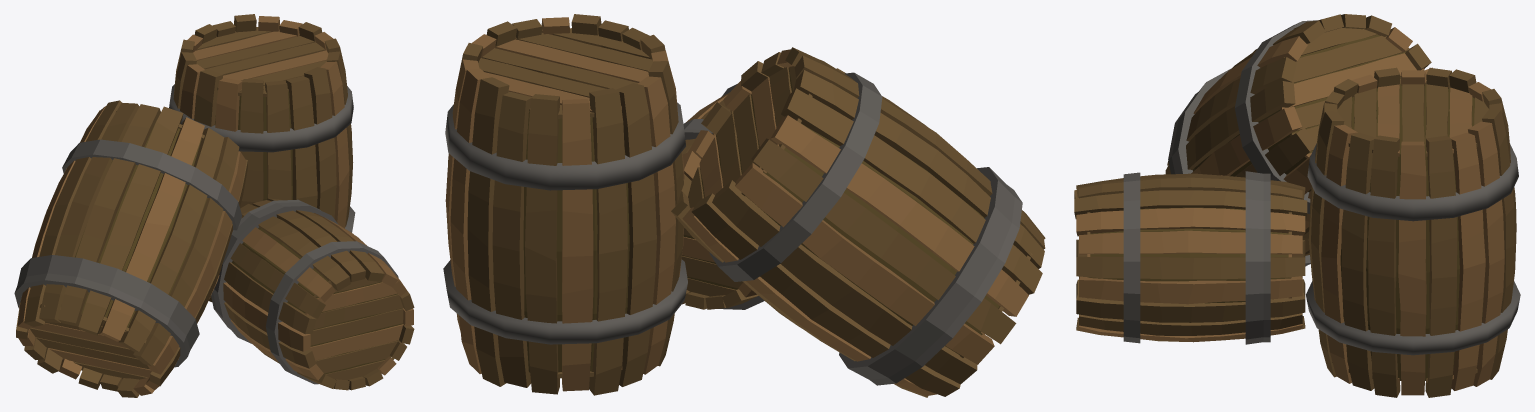
File: crates.glb
The picture shows the model from 3 angles, left to right: view 1: azimuth 30°, elevation 25°; view 2: azimuth 150°, elevation 25°; view 3: azimuth 270°, elevation 25°; orthographic projection. The views are drawn at different scales.
Parts seen in each view (by area): view 1: Cube.166, Cube.167, Cube.168; view 2: Cube.168, Cube.166, Cube.167; view 3: Cube.168, Cube.167, Cube.166.
Part boxes in pixels (x1,y1,x2,y2): Cube.166: (14, 100, 247, 397); Cube.167: (211, 198, 414, 390); Cube.168: (169, 14, 355, 301); Cube.168: (443, 14, 687, 395); Cube.166: (671, 47, 1045, 397); Cube.167: (681, 68, 845, 309); Cube.168: (1306, 67, 1520, 397); Cube.167: (1074, 171, 1307, 344); Cube.166: (1165, 14, 1432, 266).
Size of the model in its own units: 2.4 by 1.53 by 2.16.
